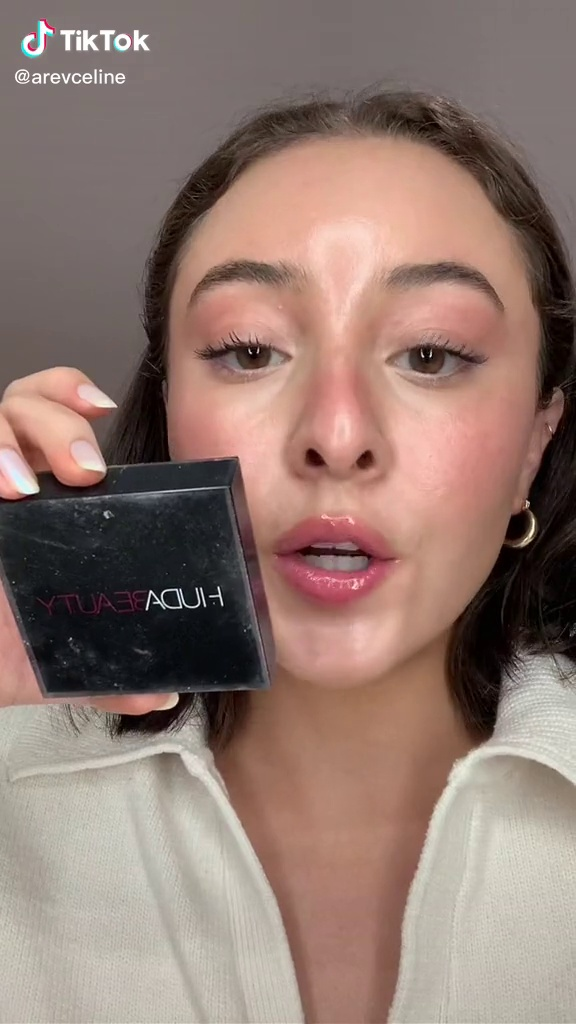train' :'yolo_data/train/images',: (2, 447, 287, 710)
